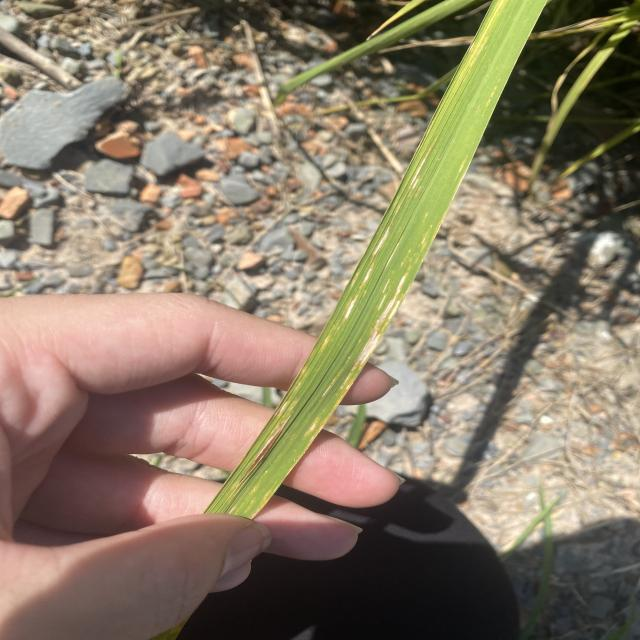Dom soc vi khuan: (351, 275, 406, 370), (343, 266, 373, 320), (409, 137, 437, 187), (322, 368, 343, 396), (372, 226, 390, 255), (455, 155, 467, 180)
